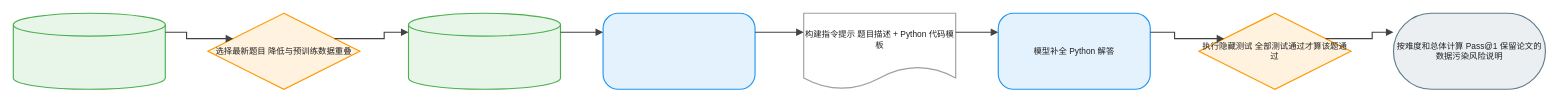
Some shapes in this 1560 by 103 pixel diagram are drawn without their labels. The centre of each missing label's shape, as x and y in pixels:
180 道 Python 题 简单 45 · 中等 91 · 困难 44: [484,51]
每题收集 100 个测试用例 面向覆盖率的可执行判定: [678,51]
近期 LeetCode 竞赛 2023 年 7 月至 2024 年 1 月: [89,51]
